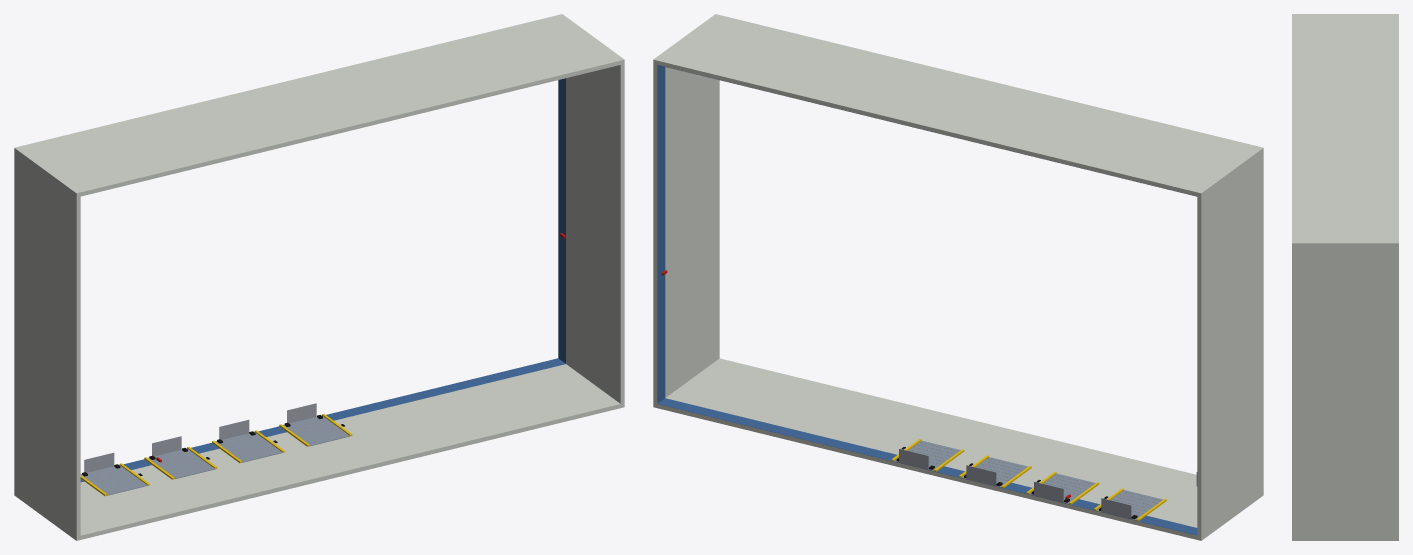
Rendered from building.obj.
3 renders of one model, left to right at view 1: azimuth 30°, elevation 25°; view 2: azimuth 150°, elevation 25°; view 3: azimuth 270°, elevation 25°, orthographic. The views are drawn at different scales.
Parts seen in each view (by area): view 1: wall, wall_band, door, steel, yellow; view 2: wall, wall_band, door, steel, yellow; view 3: wall.
Boxes of the visible parts, <box> form: wall: <box>14,14,624,540</box>; wall_band: <box>80,78,565,482</box>; door: <box>80,415,349,495</box>; steel: <box>82,403,347,493</box>; yellow: <box>80,414,352,496</box>; wall: <box>653,14,1263,540</box>; wall_band: <box>657,65,1197,535</box>; door: <box>893,440,1197,520</box>; steel: <box>896,442,1161,518</box>; yellow: <box>891,439,1166,521</box>; wall: <box>1292,14,1398,540</box>.
Bounding box in the file's own units: 40.6 × 24.6 × 8.
